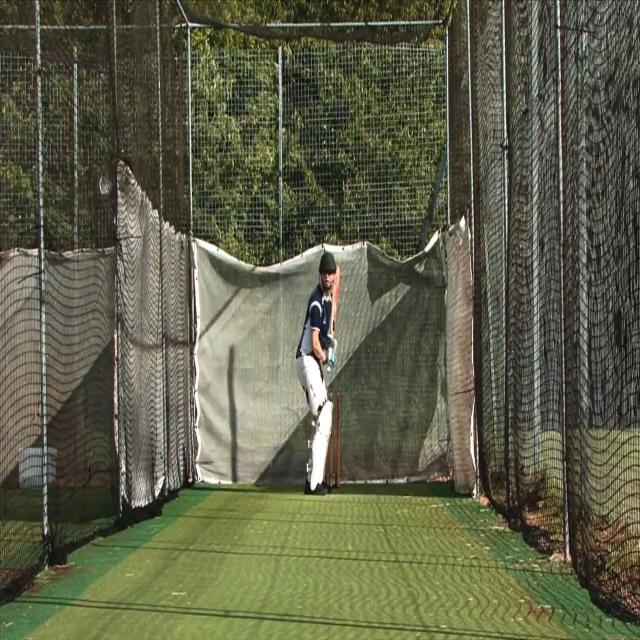batsman: (294, 249, 341, 498)
